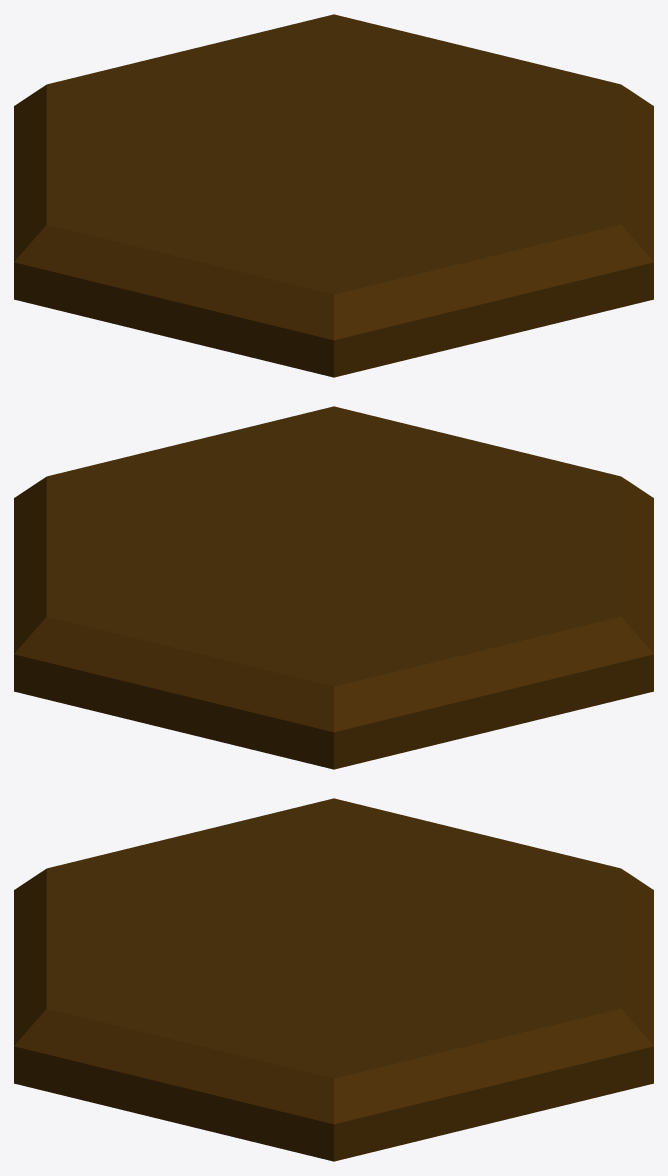
File: HexTilePLACEHOLDER.fbx
3 renders of one model, top to bottom at view 1: azimuth 30°, elevation 25°; view 2: azimuth 150°, elevation 25°; view 3: azimuth 270°, elevation 25°, orthographic.
Parts seen in each view (by area): view 1: Cylinder; view 2: Cylinder; view 3: Cylinder.
Boxes of the visible parts, x1=… form: Cylinder: x1=14, y1=14, x2=653, y2=377; Cylinder: x1=14, y1=406, x2=653, y2=769; Cylinder: x1=14, y1=798, x2=653, y2=1161.
Bounding box in the file's own units: 2 × 1.73 × 0.2.
